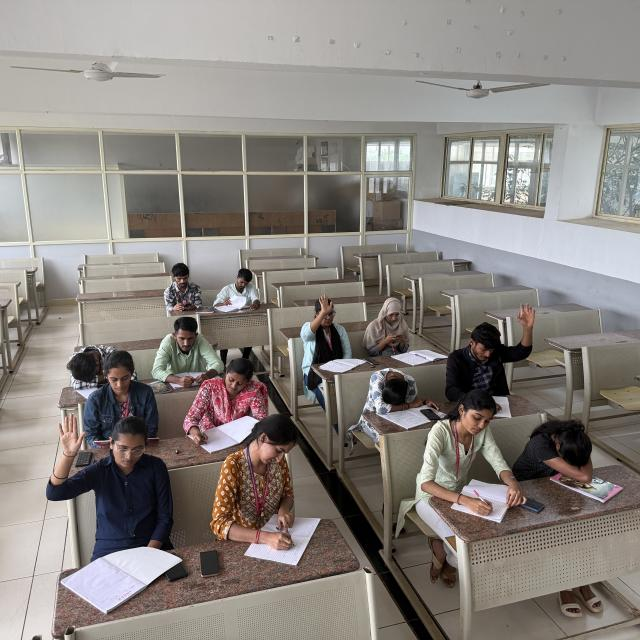Hand Rising: (45, 414, 175, 550), (441, 300, 538, 390), (300, 293, 359, 372)
Reading: (155, 315, 225, 385), (211, 266, 264, 318)
Sleeping: (519, 414, 601, 478), (362, 364, 432, 414), (66, 336, 121, 388)
Using Phone: (363, 295, 416, 356), (160, 259, 206, 314)
Writing: (211, 418, 318, 561), (418, 390, 516, 516), (181, 358, 268, 449), (87, 351, 159, 446)
